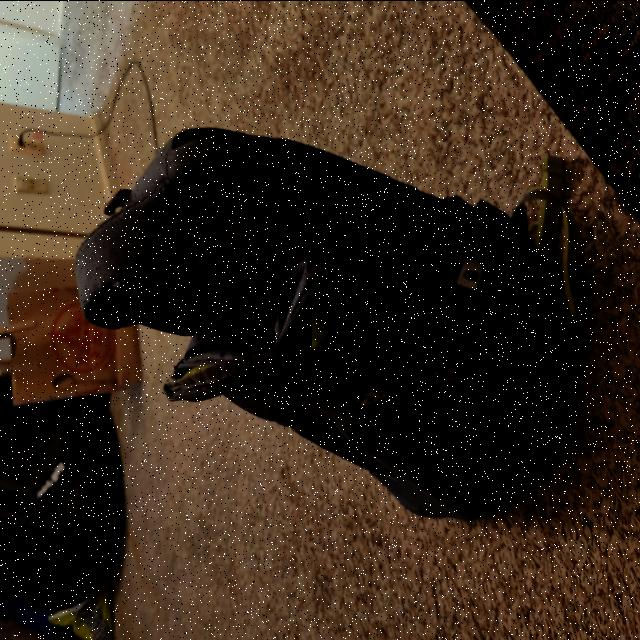bag: (109, 191, 516, 503)
